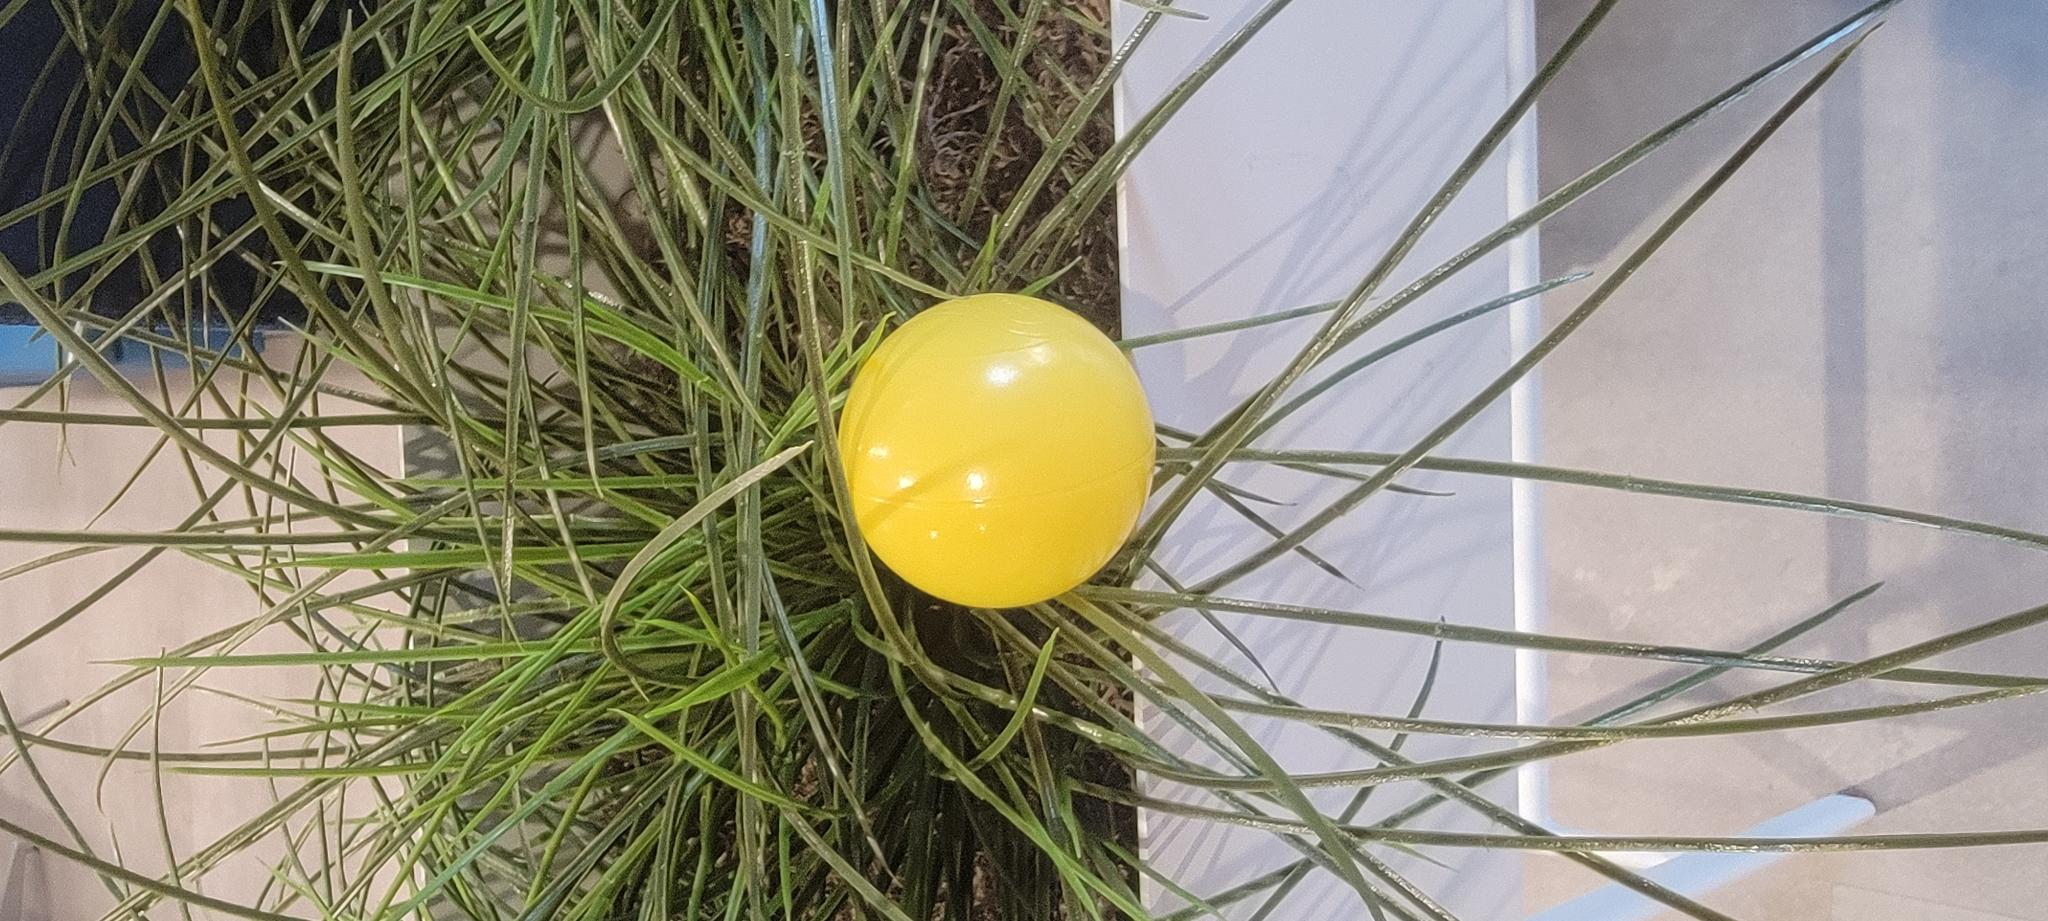Yellow-Ball: (312, 836, 623, 921)
